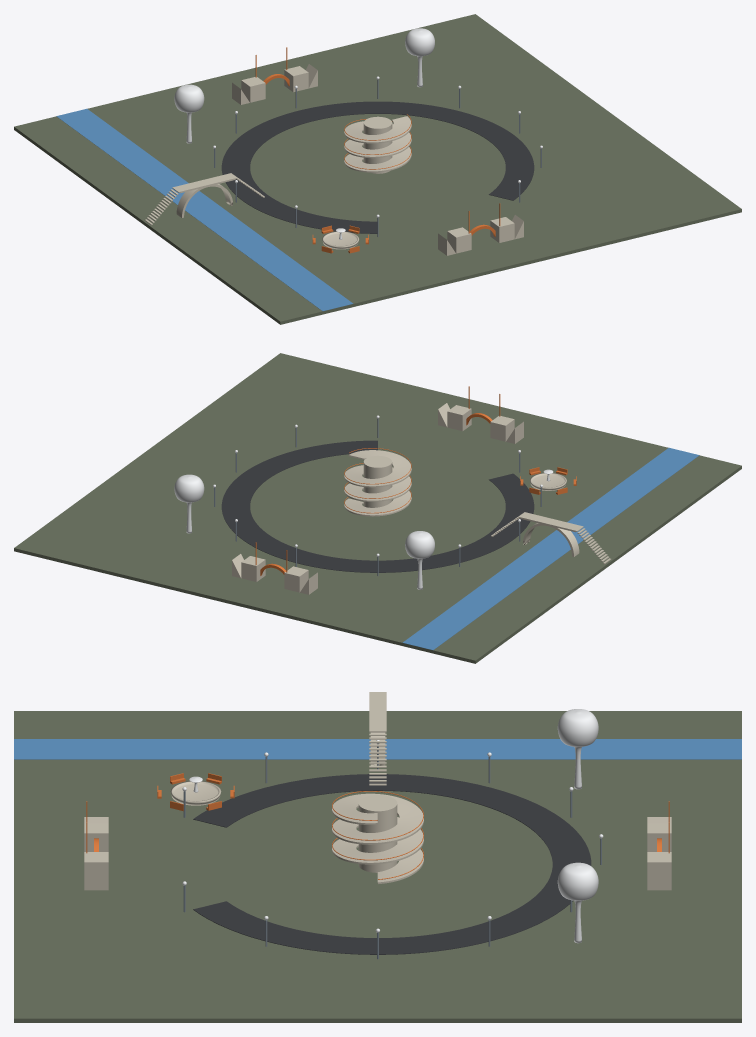
File: curves.L0.glb
The picture shows the model from 3 angles, top to bottom: view 1: azimuth 30°, elevation 25°; view 2: azimuth 150°, elevation 25°; view 3: azimuth 270°, elevation 25°; orthographic projection. The views are drawn at different scales.
Parts seen in each view (by area): view 1: ground, lane, canal, garage.ramp, tower2, tower, garage.core, plaza.basin, gate.halves.house, gate.halves.mirrored.house, gate2.halves.mirrored.house, gate2.halves.house; view 2: ground, lane, canal, garage.ramp, garage.core, tower, tower2, plaza.basin, gate.halves.house, gate2.halves.mirrored.house, gate2.halves.house, gate.halves.mirrored.house; view 3: ground, lane, canal, garage.ramp, garage.core, tower, tower2, plaza.basin, stepsE, deck, gate.halves.mirrored.house, gate2.halves.house (+3 smaller).
Boxes of the visible parts, x1=… form: ground: x1=14, y1=14, x2=741, y2=324; lane: x1=221, y1=101, x2=534, y2=233; canal: x1=56, y1=108, x2=353, y2=311; garage.ramp: x1=344, y1=116, x2=411, y2=172; tower2: x1=174, y1=84, x2=204, y2=143; tower: x1=405, y1=28, x2=434, y2=87; garage.core: x1=363, y1=116, x2=392, y2=173; plaza.basin: x1=322, y1=231, x2=359, y2=249; gate.halves.house: x1=490, y1=217, x2=514, y2=242; gate.halves.mirrored.house: x1=447, y1=227, x2=471, y2=253; gate2.halves.mirrored.house: x1=284, y1=66, x2=308, y2=92; gate2.halves.house: x1=241, y1=77, x2=265, y2=102; ground: x1=14, y1=353, x2=741, y2=663; lane: x1=221, y1=440, x2=534, y2=572; canal: x1=402, y1=447, x2=699, y2=650; garage.ramp: x1=344, y1=450, x2=411, y2=516; garage.core: x1=363, y1=455, x2=392, y2=507; tower: x1=174, y1=474, x2=204, y2=533; tower2: x1=405, y1=531, x2=434, y2=589; plaza.basin: x1=530, y1=473, x2=566, y2=490; gate.halves.house: x1=447, y1=405, x2=471, y2=431; gate2.halves.mirrored.house: x1=241, y1=556, x2=265, y2=581; gate2.halves.house: x1=284, y1=566, x2=308, y2=592; gate.halves.mirrored.house: x1=490, y1=416, x2=514, y2=441; ground: x1=14, y1=711, x2=741, y2=1022; lane: x1=193, y1=774, x2=591, y2=954; canal: x1=14, y1=739, x2=741, y2=759; garage.ramp: x1=332, y1=793, x2=423, y2=883; garage.core: x1=358, y1=795, x2=397, y2=872; tower: x1=557, y1=862, x2=598, y2=943; tower2: x1=557, y1=709, x2=598, y2=789; plaza.basin: x1=170, y1=781, x2=221, y2=805; stepsE: x1=369, y1=730, x2=386, y2=785; deck: x1=369, y1=693, x2=386, y2=730; gate.halves.mirrored.house: x1=84, y1=823, x2=108, y2=851; gate2.halves.house: x1=647, y1=823, x2=671, y2=851.
Size of the model in its own units: 150 by 18.2 by 150.
